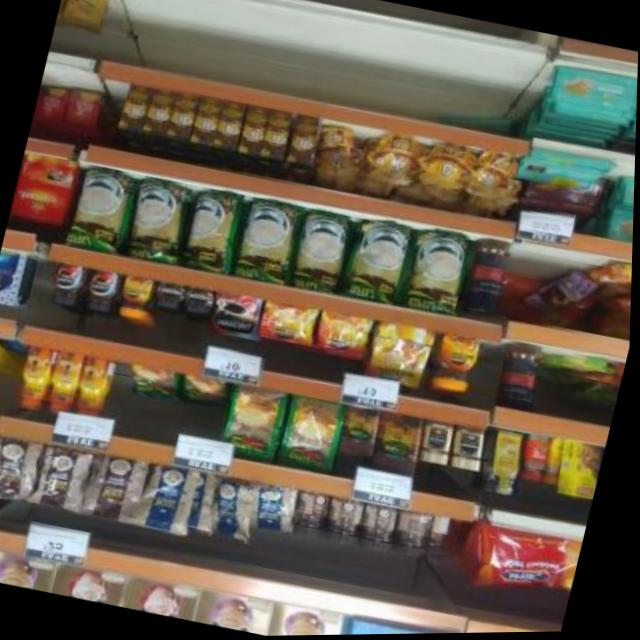Coffee: (370, 322, 436, 391), (431, 333, 482, 393), (260, 300, 320, 347), (211, 291, 264, 342), (318, 311, 374, 358), (48, 351, 87, 417), (77, 357, 118, 419), (21, 345, 57, 411), (85, 268, 125, 312), (49, 261, 89, 305), (119, 275, 158, 320), (421, 422, 457, 467), (456, 429, 490, 474), (155, 282, 188, 312), (185, 287, 217, 317)
